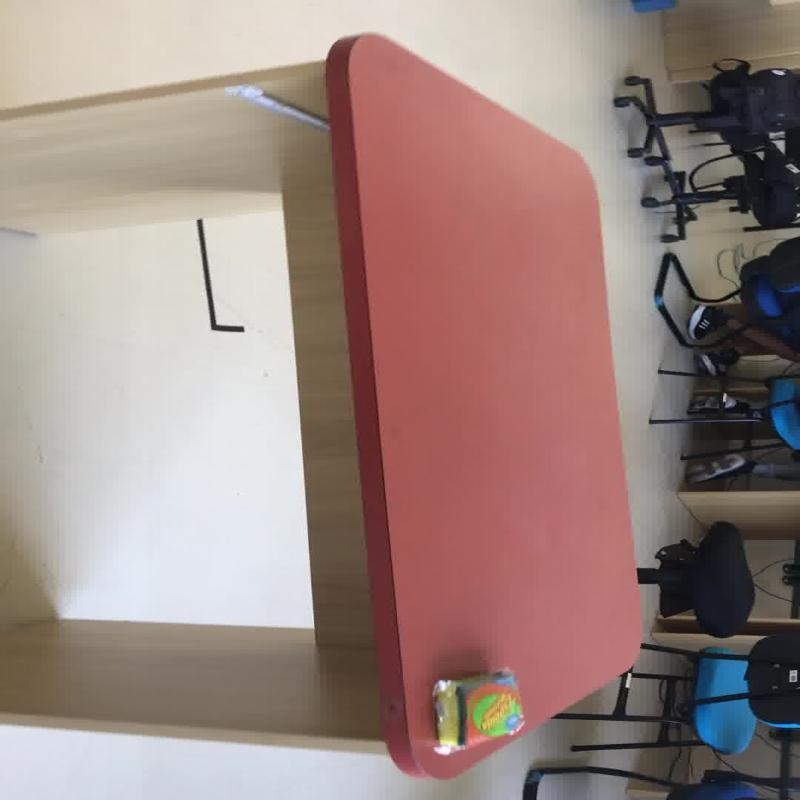sponge: (688, 645, 756, 754), (459, 671, 523, 737), (430, 678, 465, 753)
